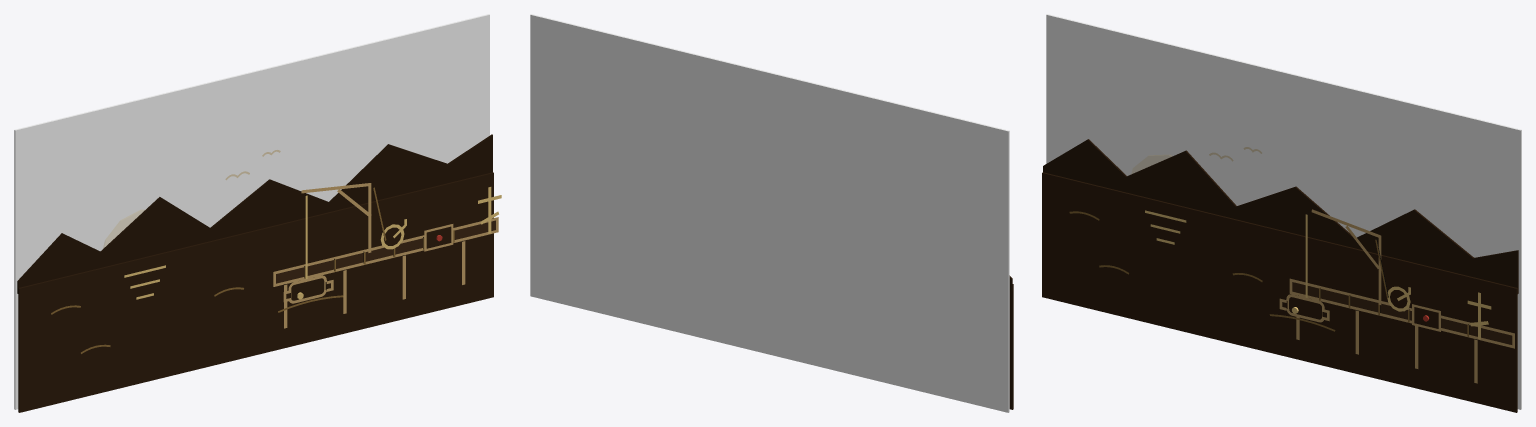
Rendered from loc-prichal-rov.glb.
3 renders of one model, left to right at view 1: azimuth 30°, elevation 25°; view 2: azimuth 150°, elevation 25°; view 3: azimuth 330°, elevation 25°, orthographic.
Parts seen in each view (by area): view 1: loc-prichal-rov; view 2: loc-prichal-rov; view 3: loc-prichal-rov.
Boxes of the visible parts, x1=… form: loc-prichal-rov: x1=14, y1=14, x2=501, y2=412; loc-prichal-rov: x1=530, y1=14, x2=1013, y2=412; loc-prichal-rov: x1=1042, y1=14, x2=1521, y2=412.
Bounding box in the file's own units: 5.35 × 3 × 0.501.
